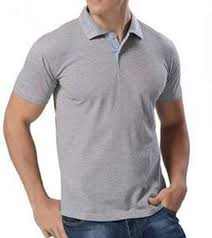C_polo shirt: (13, 12, 192, 219)
